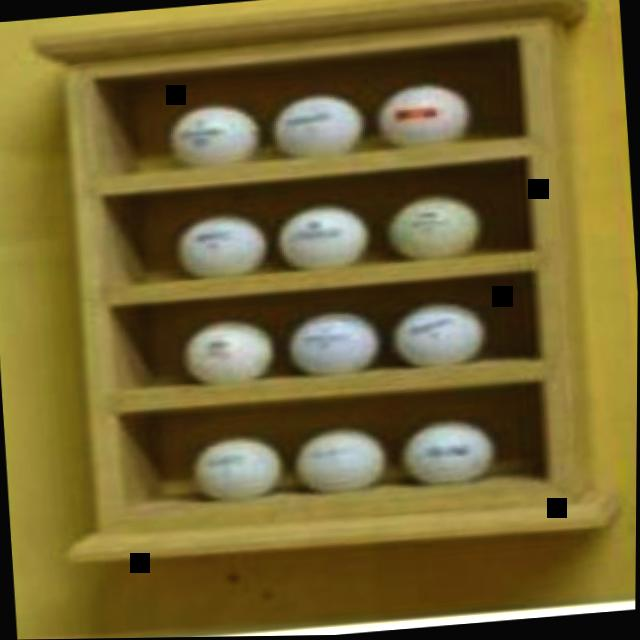golf ball: (385, 292, 488, 377), (383, 187, 485, 268), (178, 310, 279, 391), (285, 302, 385, 382), (162, 99, 263, 175), (274, 198, 373, 275), (374, 80, 474, 155), (171, 209, 269, 284), (269, 90, 368, 162)
